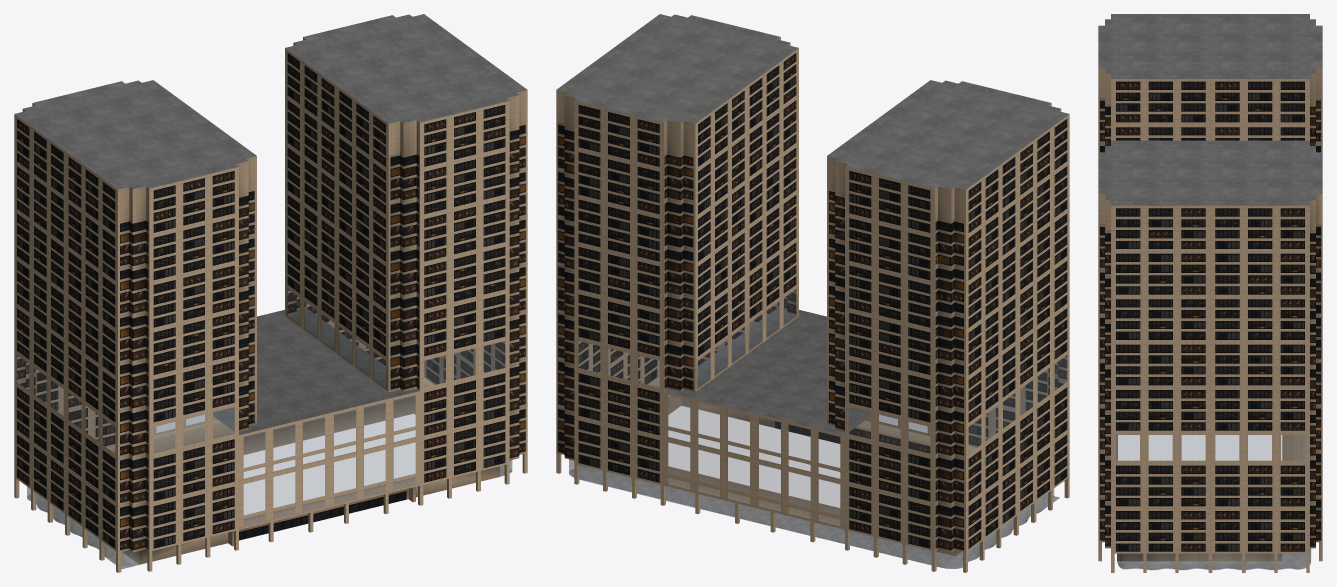
Rendered from o_tall.glb.
3 views of the same model, side by side, from view 1: azimuth 30°, elevation 25°; view 2: azimuth 150°, elevation 25°; view 3: azimuth 270°, elevation 25° (orthographic). The views are drawn at different scales.
Parts seen in each view (by area): view 1: body|Highrise_Facade.002, body|window1-4, body|concrete_tiles.002, body|glass (×2), body|Material.003, body|Material.004; view 2: body|Highrise_Facade.002, body|window1-4, body|concrete_tiles.002, body|glass (×2), body|Material.004, body|Material.003; view 3: body|window1-4, body|Highrise_Facade.002, body|concrete_tiles.002, body|glass (×2), body|Material.004, body|Material.003.
Boxes of the visible parts, x1,y1,x2,y2 form: body|Highrise_Facade.002: (14,37,527,572); body|window1-4: (17,53,525,550); body|concrete_tiles.002: (15,14,527,434); body|glass (×2): (17,290,512,566); body|Material.003: (122,395,499,564); body|Material.004: (27,465,512,569); body|Highrise_Facade.002: (556,37,1069,572); body|window1-4: (558,53,1067,550); body|concrete_tiles.002: (556,14,1068,435); body|glass (×2): (569,290,1066,568); body|Material.004: (569,408,1059,568); body|Material.003: (668,395,961,556); body|window1-4: (1100,81,1320,551); body|Highrise_Facade.002: (1098,67,1322,572); body|concrete_tiles.002: (1098,14,1322,205); body|glass (×2): (1116,435,1310,569); body|Material.004: (1117,548,1310,569); body|Material.003: (1117,553,1282,561).
Bounding box in the file's own units: 37.09 × 33.19 × 18.36.
7 materials, 5 textured.
